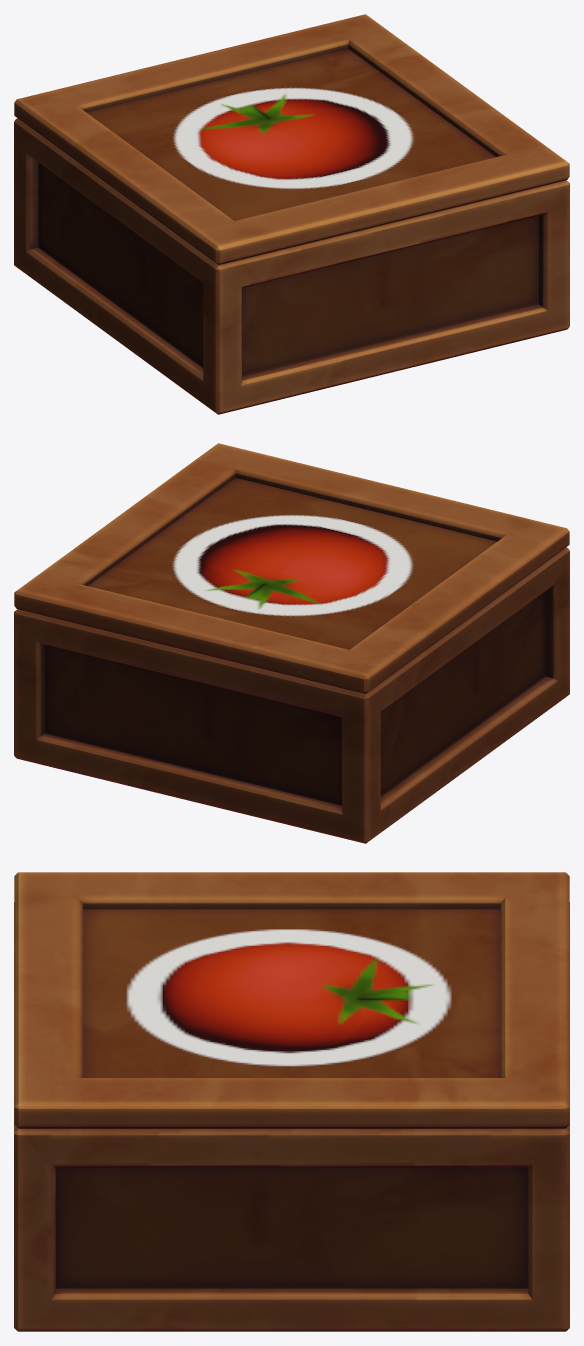
The model's file is tomatoTable.gltf.
The picture shows the model from 3 angles, top to bottom: view 1: azimuth 30°, elevation 25°; view 2: azimuth 150°, elevation 25°; view 3: azimuth 270°, elevation 25°; orthographic projection. The views are drawn at different scales.
Parts seen in each view (by area): view 1: 3.002, 3.001; view 2: 3.002, 3.001; view 3: 3.002, 3.001.
Part boxes in pixels (x1=…): 3.002: x1=14, y1=14, x2=569, y2=414; 3.001: x1=87, y1=49, x2=495, y2=220; 3.002: x1=14, y1=443, x2=569, y2=843; 3.001: x1=88, y1=478, x2=496, y2=649; 3.002: x1=14, y1=872, x2=569, y2=1331; 3.001: x1=83, y1=909, x2=500, y2=1077.
Bounding box in the file's own units: 2 × 0.9061 × 2.
1 material, 1 textured.
